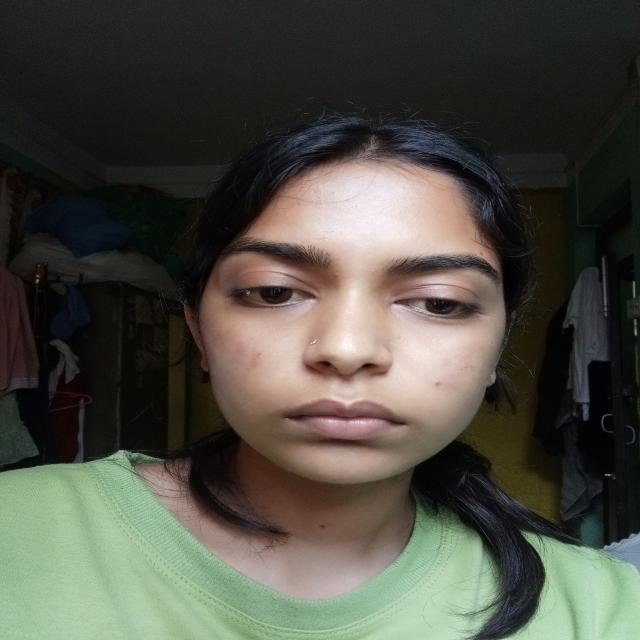Acne: (247, 348, 268, 369), (310, 182, 325, 198), (459, 363, 474, 374), (432, 378, 443, 389), (320, 233, 331, 242), (368, 268, 377, 276), (332, 191, 338, 197)
